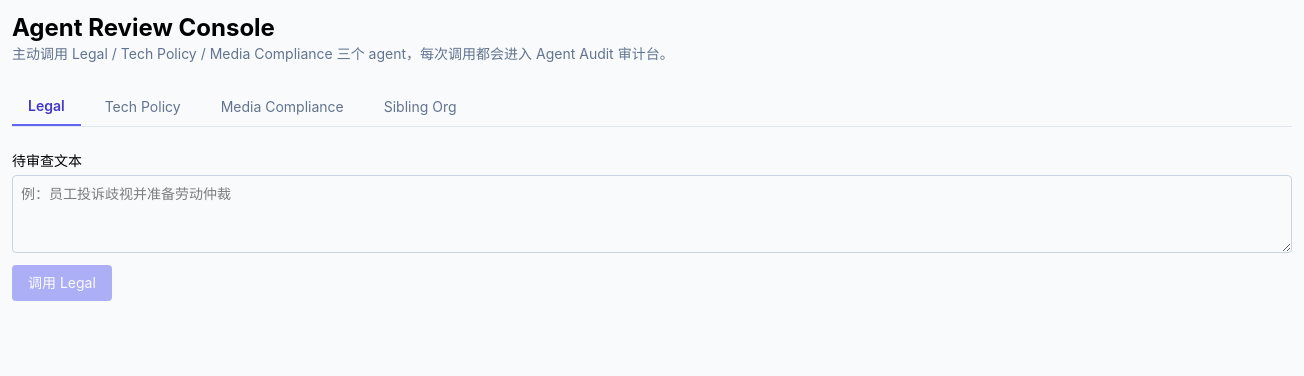
it: V32 Agent Review Console › shows error UI when fetch fails
Type "something" into the text box with test id "legal-text" at (652, 214), box [12,175,1292,253]
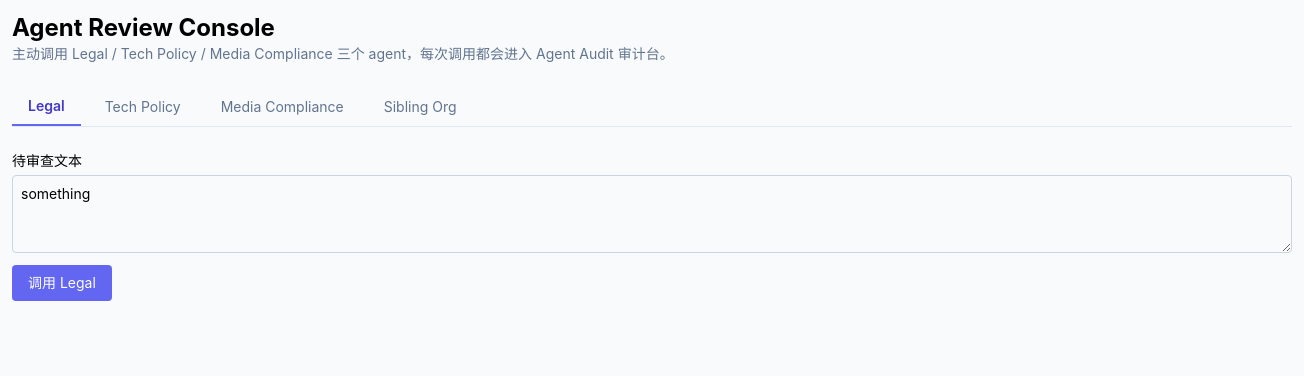
Click the button with test id "legal-submit" at (62, 283), box [12,265,112,301]
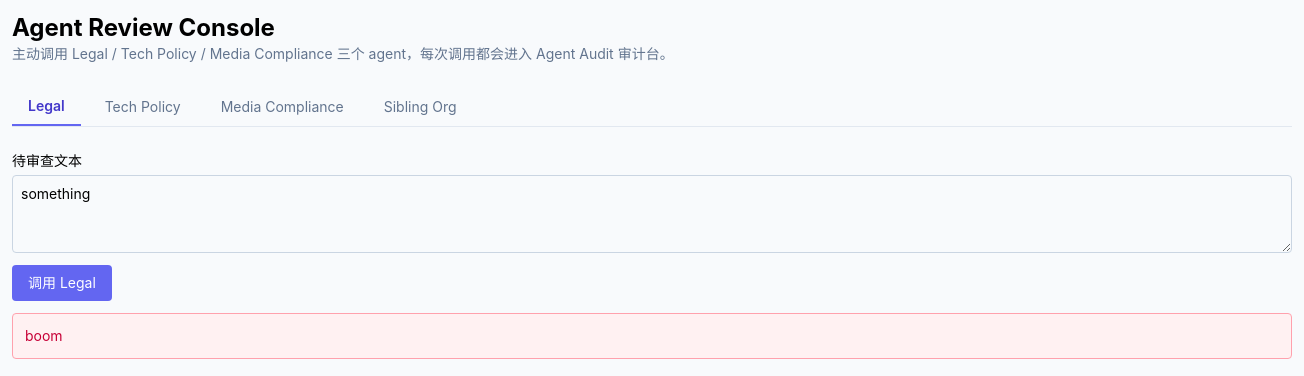
Check: the text "boom" is shown, box [12,313,1292,359]
Check: the text with test id "legal-error" reads "boom", box [25,327,63,344]
